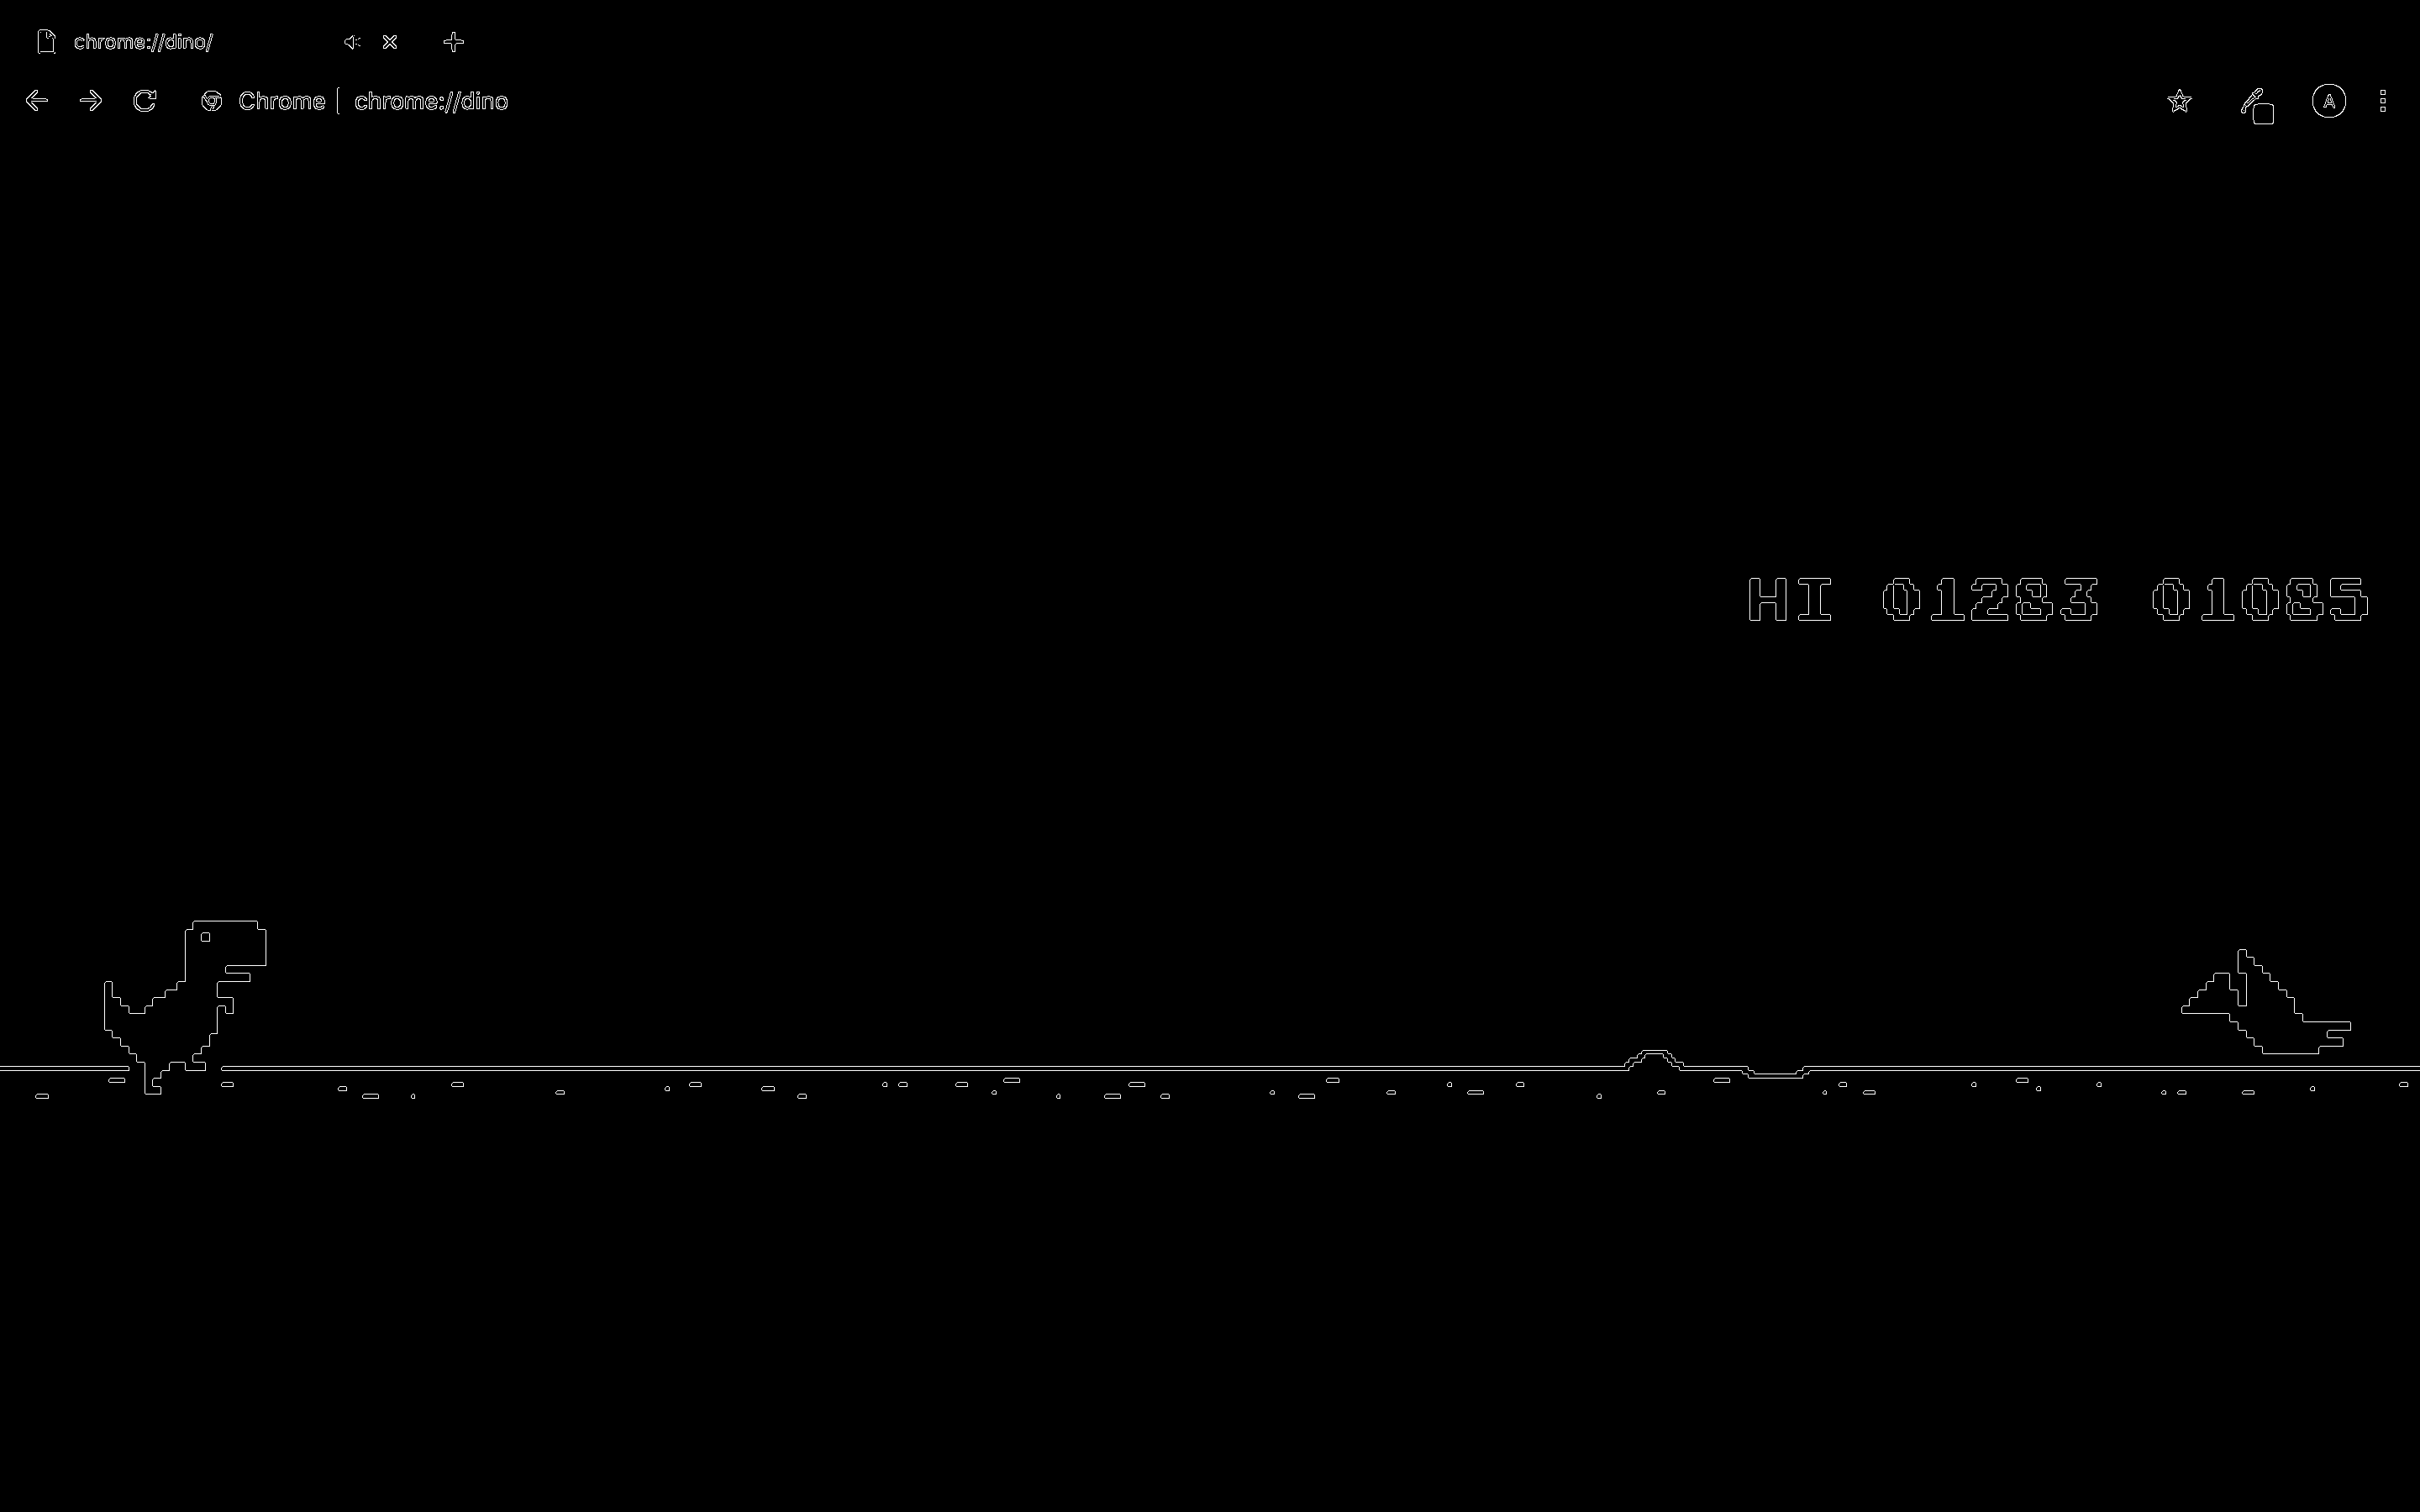Bird: (2169, 948, 2363, 1068)
Dino: (106, 913, 277, 1090)
